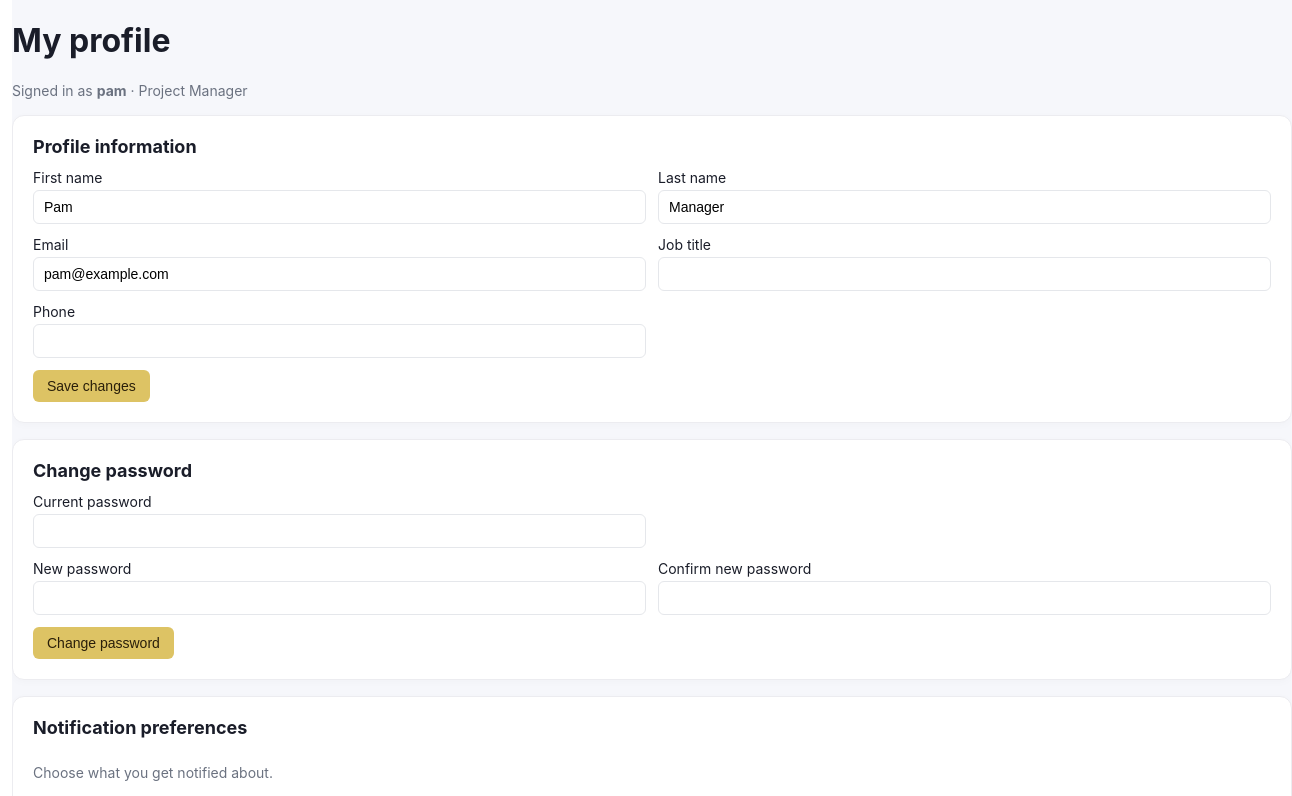
Test case: Profile page › saves profile changes
This screenshot has width=1292, height=796.
Replace the text in the field showing "Pam" with "Pamela". click: (340, 207)
box: [33,190,646,224]
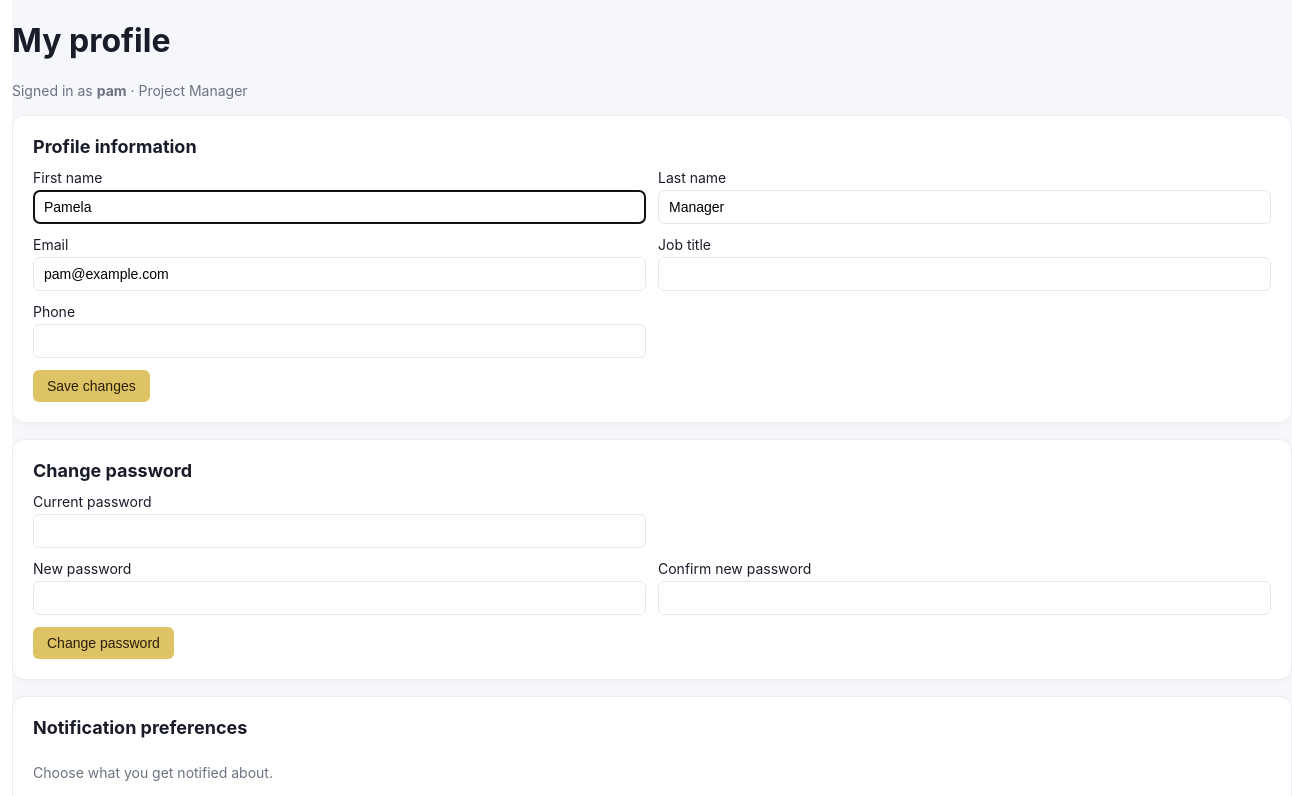
Click the button "Save changes". click: (91, 386)
box: [33,370,150,402]
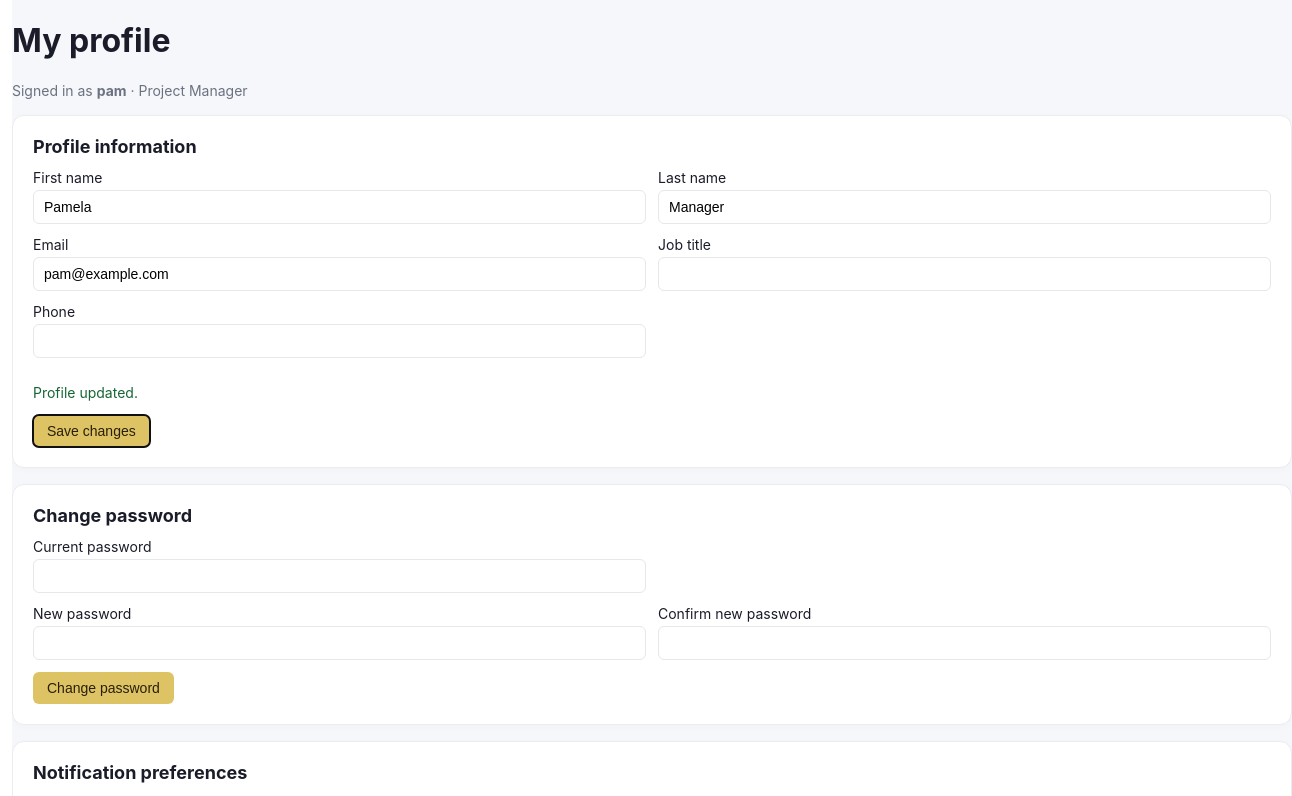
Expected: the text "Profile updated." is shown, [33,384,138,401]
